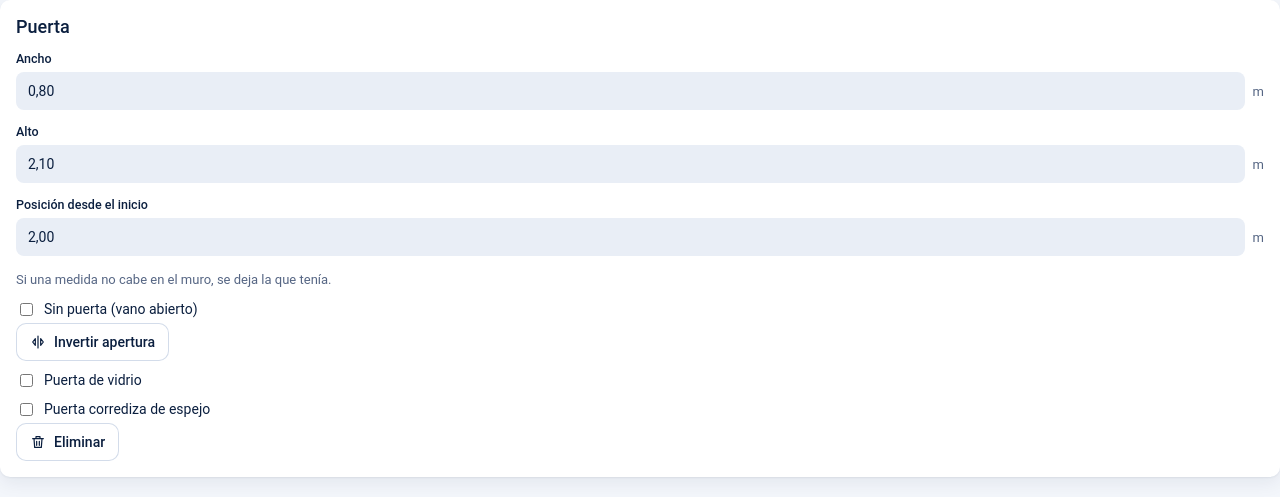
Test: a refused edit puts the real value back in the field
The image size is (1280, 497).
Replace the text in the field labelled "Ancho" with "9" at point(630, 91), box [16, 72, 1245, 110]
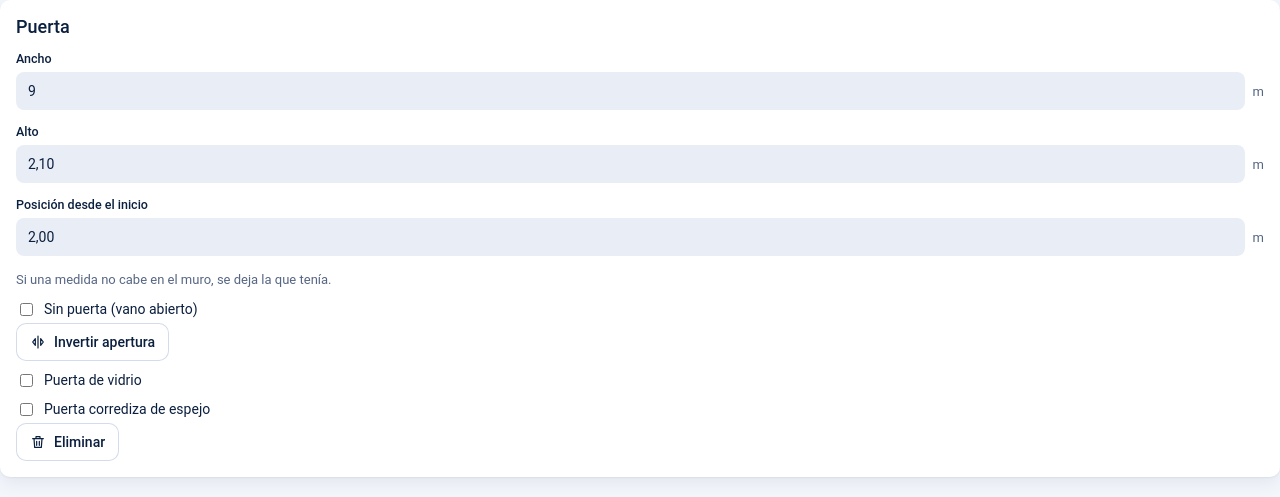
Press Enter in the field labelled "Ancho", box [16, 72, 1245, 110]
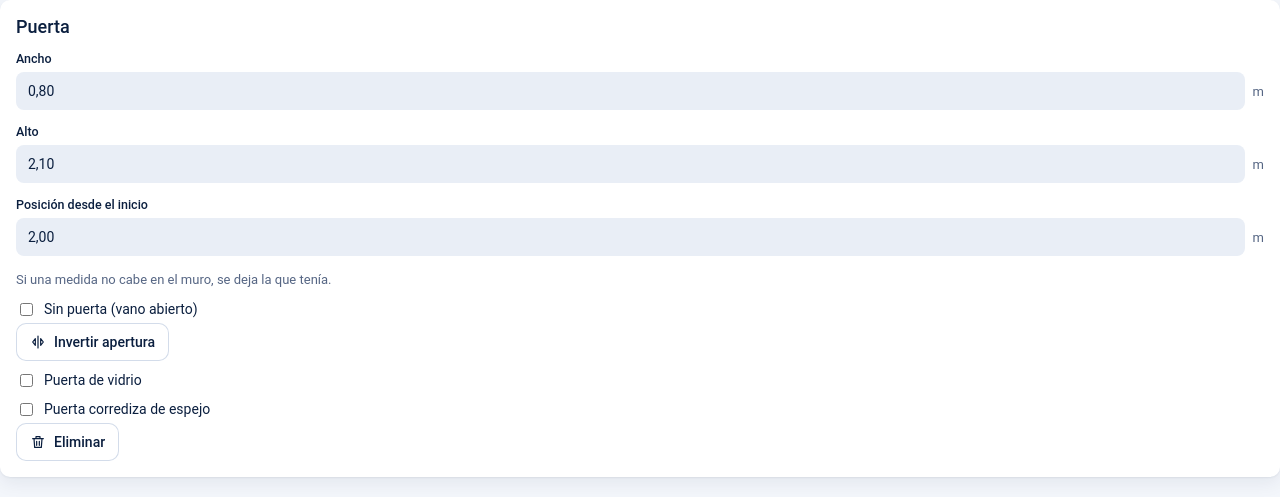
Expected: the field labelled "Ancho" holds "0,80", [16, 72, 1245, 110]
